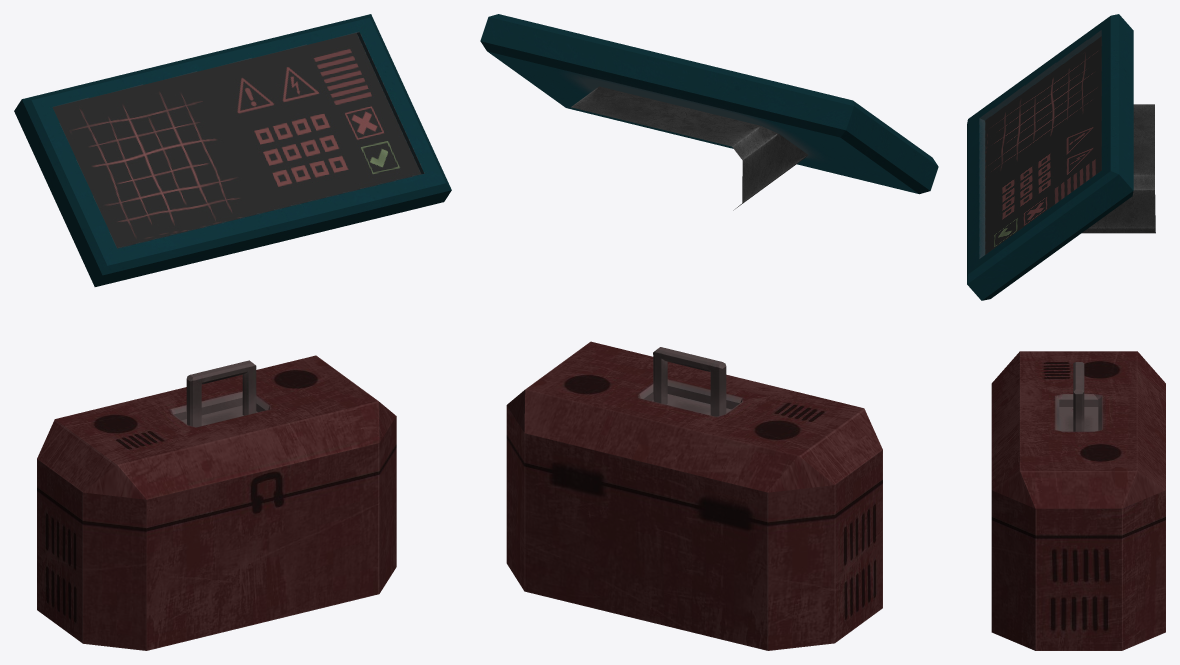
Rendered from repair_kit__control_panel_spaceship_indweller.glb.
3 renders of one model, left to right at view 1: azimuth 30°, elevation 25°; view 2: azimuth 150°, elevation 25°; view 3: azimuth 270°, elevation 25°, orthographic. The views are drawn at different scales.
Visible parts, largest first — view 1: repair_kit, control_panel; view 2: repair_kit, control_panel; view 3: repair_kit, control_panel.
Part boxes in pixels (x1,y1,x2,y2): repair_kit: (37, 355, 396, 650); control_panel: (14, 14, 451, 286); repair_kit: (506, 341, 882, 650); control_panel: (480, 14, 938, 210); repair_kit: (991, 351, 1165, 650); control_panel: (967, 14, 1155, 300).
Size of the model in its own units: 599 by 846 by 314.
Materials: 2 (2 with a texture image).
